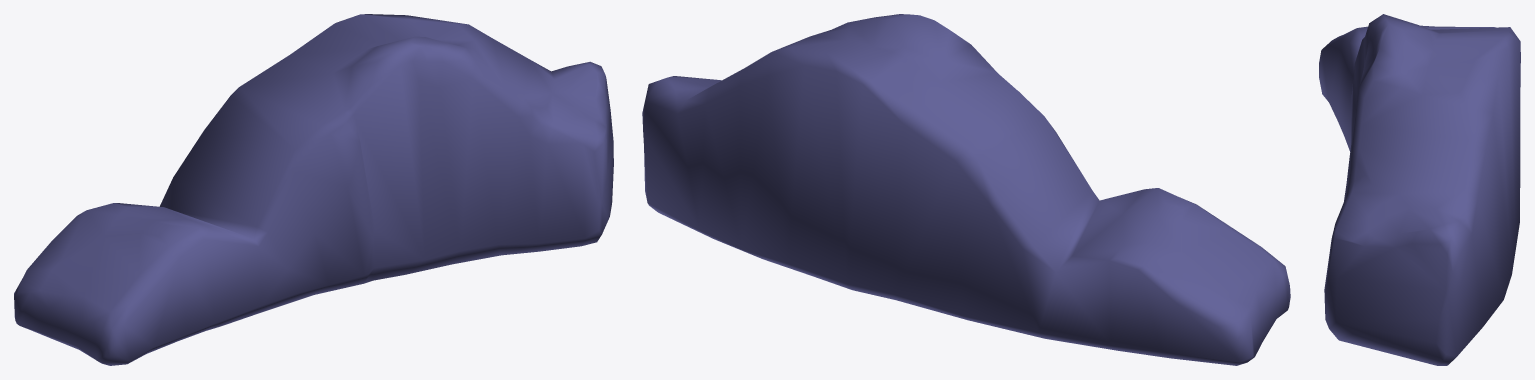
Rendered from RuinsWall_2.fbx.
3 renders of one model, left to right at view 1: azimuth 30°, elevation 25°; view 2: azimuth 150°, elevation 25°; view 3: azimuth 270°, elevation 25°, orthographic. The views are drawn at different scales.
Visible parts, largest first — view 1: RuinsWall_2; view 2: RuinsWall_2; view 3: RuinsWall_2.
Part boxes in pixels (x1,y1,x2,y2): RuinsWall_2: (14, 14, 613, 365); RuinsWall_2: (642, 14, 1290, 365); RuinsWall_2: (1319, 14, 1520, 365).
Size of the model in its own units: 536 by 197 by 151.
